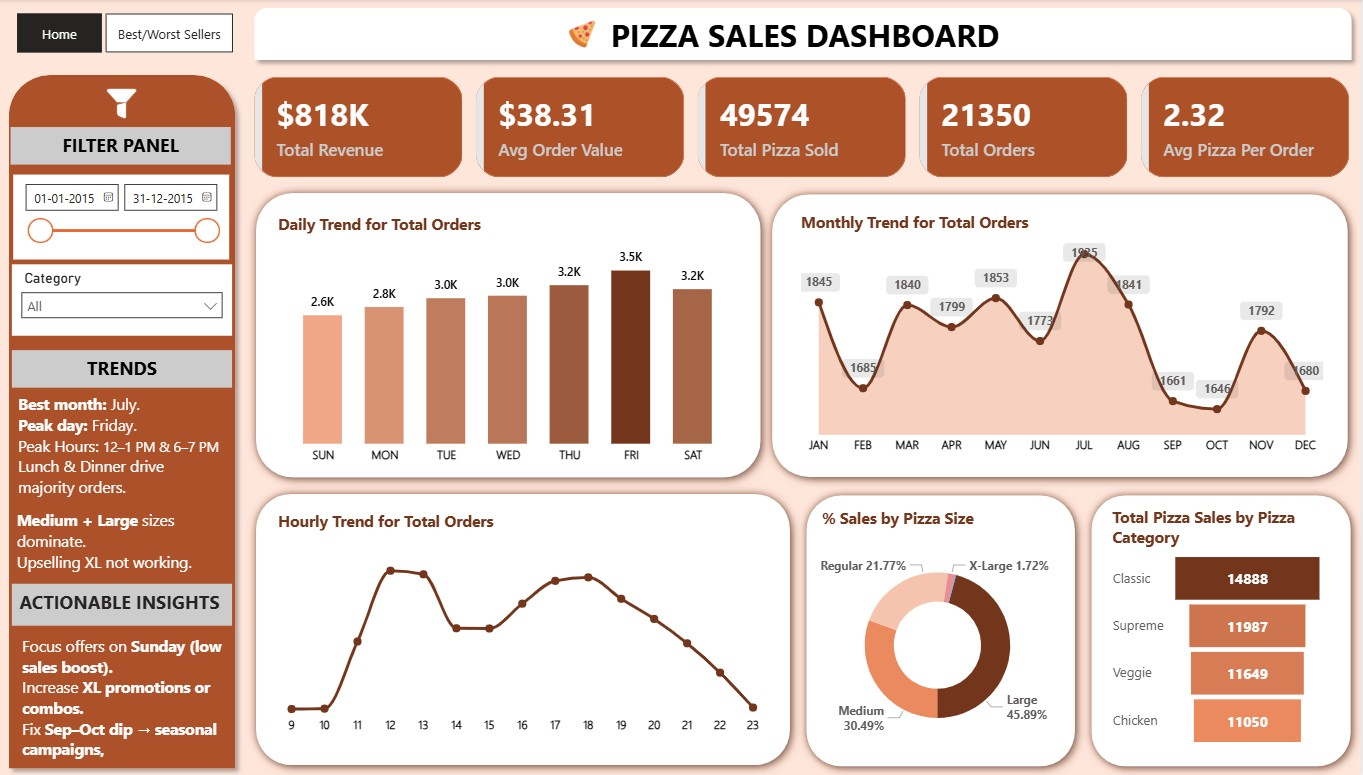

The dashboard page shown, as its layout file describes it:
{"tool":"powerbi","page":{"name":"Home","canvas":[1400,800],"ordinal":0},"visuals":[{"type":"shape","box":[0,68.6,251.1,731.4],"z":0},{"type":"shape","box":[253.1,497.7,570.8,300.5],"z":0,"group":"g3"},{"type":"shape","box":[252.8,0,1146.8,71.8],"z":1000},{"type":"cardVisual","fields":{"Data":["pizza_sales.Total Revenue","pizza_sales.Avg Order Value","pizza_sales.Total Pizza Sold","pizza_sales.Total Orders","pizza_sales.Avg Pizza Per Order"]},"box":[252.6,71.4,1147.1,118],"z":1000,"group":"g3"},{"type":"cardVisual","fields":{"Data":["pizza_sales.Total Revenue","pizza_sales.Avg Order Value","pizza_sales.Total Pizza Sold","pizza_sales.Total Orders","pizza_sales.Avg Pizza Per Order"]},"box":[252.9,71.4,1147.1,118],"z":1000,"group":"g4"},{"type":"textbox","box":[623.1,9.7,420,59.4],"z":2000},{"type":"group","id":"g1","title":"Group 1","box":[252.5,189.4,540.6,314.2],"z":3000},{"type":"shape","box":[252.5,189.4,540.6,314.2],"z":4000,"group":"g1"},{"type":"group","id":"g2","title":"Group 2","box":[783.9,190,613.7,312.3],"z":4000},{"type":"columnChart","title":"Daily Trend for Total Orders","fields":{"Category":["pizza_sales.Order day"],"Y":["pizza_sales.Total Orders"]},"box":[281.3,221.3,483,267.2],"z":5000,"group":"g1"},{"type":"shape","box":[819.2,499.5,297.8,300.5],"z":5000},{"type":"shape","box":[783.9,190,613.7,312.3],"z":6000,"group":"g2"},{"type":"shape","box":[1111.5,499.5,288.2,300.5],"z":6000},{"type":"group","id":"g3","title":"Group 3","box":[252.6,71.4,1147.1,726.8],"z":7000},{"type":"areaChart","title":"Monthly Trend for Total Orders","fields":{"Category":["pizza_sales.Order Month"],"Y":["pizza_sales.Total Orders"]},"box":[819.8,219,547.1,258.4],"z":7000,"group":"g2"},{"type":"textbox","box":[13.6,400.6,221.3,122.2],"z":8000},{"type":"textbox","box":[12.4,360.6,226.6,38.7],"z":9000},{"type":"donutChart","title":"% Sales by Pizza Size","fields":{"Y":["pizza_sales.Total Revenue"],"Category":["pizza_sales.pizza_size"]},"box":[841.1,522.8,247,262.1],"z":10000},{"type":"funnel","title":"Total Pizza Sales by Pizza Category","fields":{"Category":["pizza_sales.pizza_category"],"Y":["pizza_sales.Total Pizza Sold"]},"box":[1138.9,521.4,227.8,252.5],"z":12000},{"type":"textbox","box":[12.2,502.4,226.8,99.1],"z":13000},{"type":"slicer","fields":{"Values":["pizza_sales.order_date"]},"box":[13.7,180.7,221.1,87],"z":14000},{"type":"textbox","box":[12.4,601,226.6,42.8],"z":15000},{"type":"textbox","box":[18,649.4,221.1,150.6],"z":16000},{"type":"group","id":"g4","title":"Group 3","box":[252.9,71.4,1147.1,118],"z":17000},{"type":"slicer","fields":{"Values":["pizza_sales.pizza_category"]},"box":[12.2,272.9,226.8,73.3],"z":18000},{"type":"textbox","box":[11.1,131.3,226.6,38.7],"z":19000},{"type":"image","box":[91.2,92.6,67.7,30.4],"z":20000},{"type":"pageNavigator","box":[18,15.2,87,40.1],"z":21000},{"type":"pageNavigator","box":[109.2,15.2,131.3,40.1],"z":22000},{"type":"image","box":[582.5,21.7,32.6,28.5],"z":23000},{"type":"lineChart","title":"Hourly Trend for Total Orders","fields":{"Y":["pizza_sales.Total Orders"],"Category":["pizza_sales.Hour"]},"box":[281.3,525.5,511.8,238.8],"z":24000}]}

Visuals, with their boxes in screenshot pixels (x1, y1, x2, y2), scaled from the page's 1400x800 canvas onto the 1363x775 screenshot:
shape: 0/66/244/774
shape: 246/482/802/773
shape: 246/0/1362/70
cardVisual - pizza_sales.Total Revenue x pizza_sales.Avg Order Value: 246/69/1362/183
cardVisual - pizza_sales.Total Revenue x pizza_sales.Avg Order Value: 246/69/1362/183
textbox: 607/9/1016/67
"Group 1" group: 246/183/772/488
shape: 246/183/772/488
"Group 2" group: 763/184/1361/487
"Daily Trend for Total Orders" columnChart: 274/214/744/473
shape: 798/484/1087/774
shape: 763/184/1361/487
shape: 1082/484/1362/774
"Group 3" group: 246/69/1362/773
"Monthly Trend for Total Orders" areaChart: 798/212/1331/462
textbox: 13/388/229/506
textbox: 12/349/233/387
"% Sales by Pizza Size" donutChart: 819/506/1059/760
"Total Pizza Sales by Pizza Category" funnel: 1109/505/1331/750
textbox: 12/487/233/583
slicer - pizza_sales.order_date: 13/175/229/259
textbox: 12/582/233/624
textbox: 18/629/233/774
"Group 3" group: 246/69/1362/183
slicer - pizza_sales.pizza_category: 12/264/233/335
textbox: 11/127/231/165
image: 89/90/155/119
pageNavigator: 18/15/102/54
pageNavigator: 106/15/234/54
image: 567/21/599/49
"Hourly Trend for Total Orders" lineChart: 274/509/772/740
